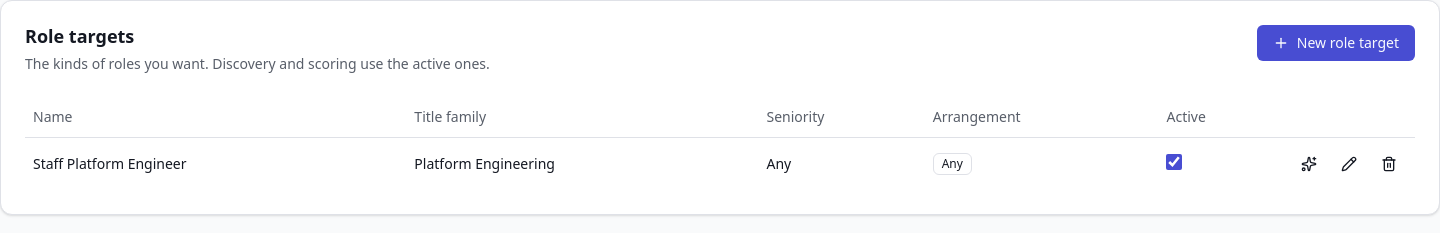
Test: RoleTargetsSettings icon buttons (issue #138) › shows the edit and delete icon tooltips on hover, matching their aria-labels
The image size is (1440, 233).
Hover over the button named "Edit Staff Platform Engineer" at (1349, 164), box [1331,146,1367,182]
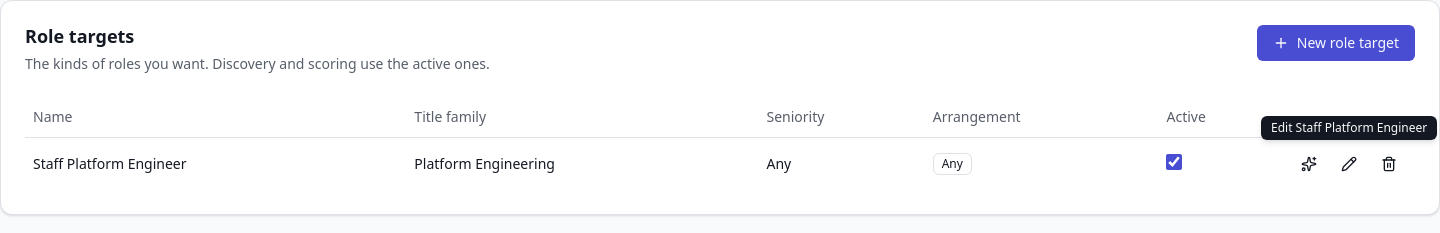
Check: the tooltip "Edit Staff Platform Engineer" is shown, box [1261,116,1437,140]
